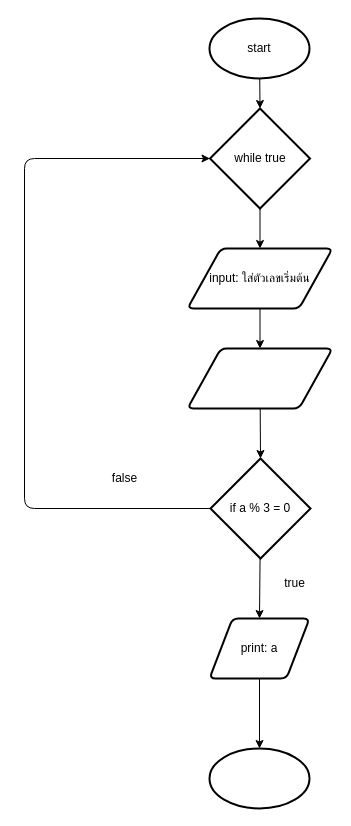
Image size: 351x826. Some labels were removed from this diagram. Here are the shapes that lost their labels. From the top down, the centre of each, then its label:
point (259, 378): input: ใส่ตัวเลขสิ้นสุด
point (259, 778): end
